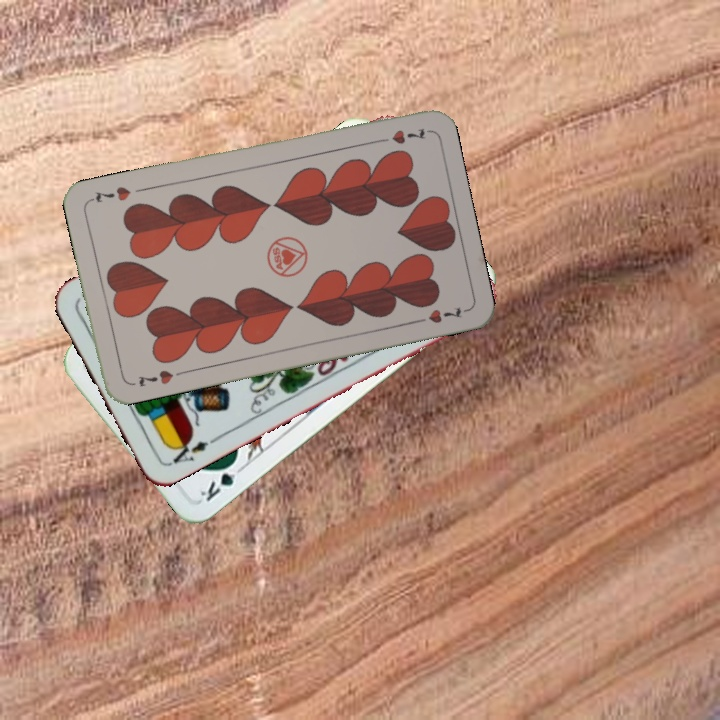EA: (165, 433, 220, 468)
GK: (196, 456, 247, 505)
H7: (371, 124, 430, 147), (134, 366, 186, 390)
